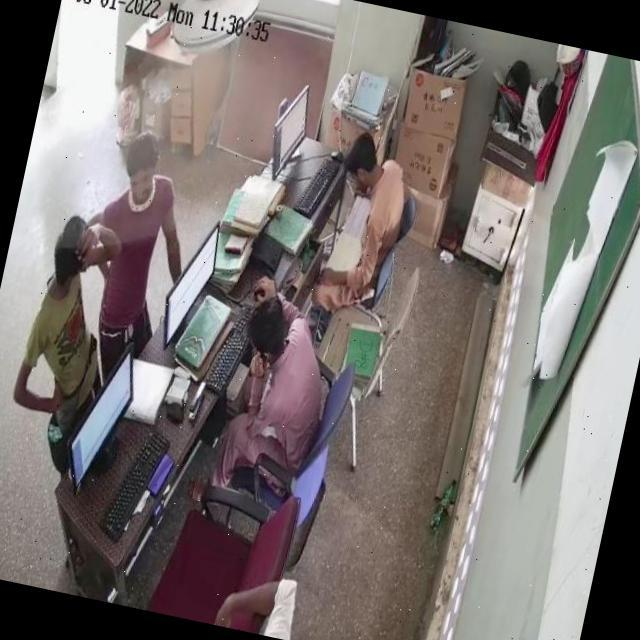person: (84, 139, 186, 359), (217, 277, 331, 457), (18, 229, 126, 416), (324, 134, 408, 276)
